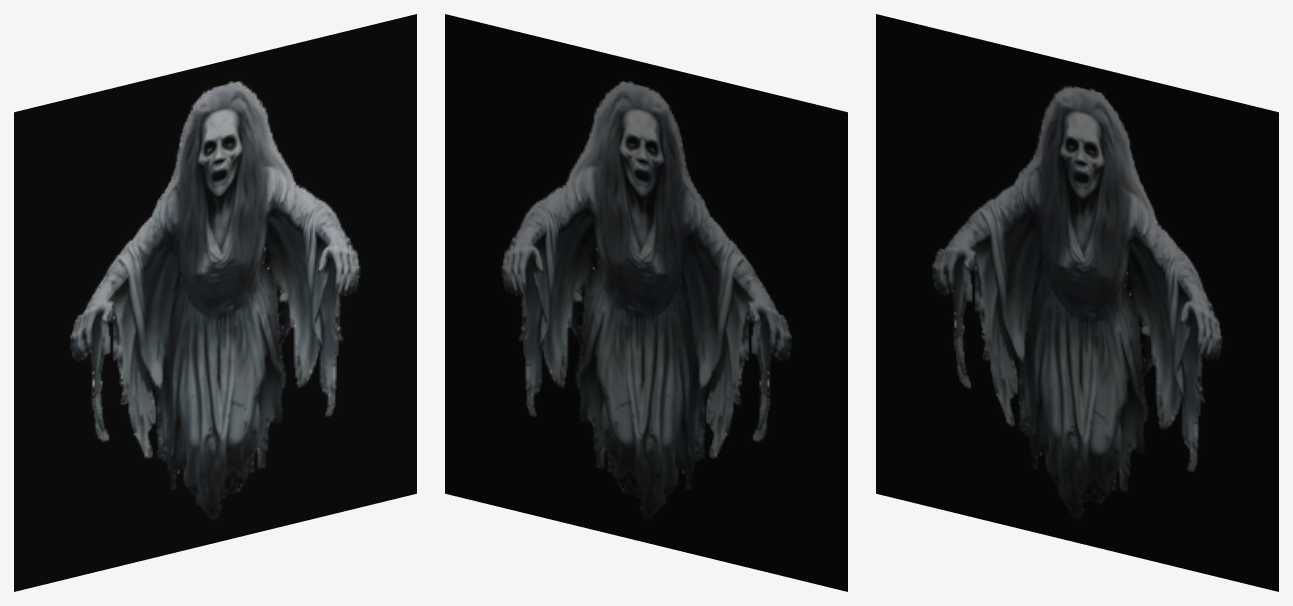
File: fantasma_1_fbx.glb
The picture shows the model from 3 angles, left to right: view 1: azimuth 30°, elevation 25°; view 2: azimuth 150°, elevation 25°; view 3: azimuth 330°, elevation 25°; orthographic projection.
Parts seen in each view (by area): view 1: Plane; view 2: Plane; view 3: Plane.
Part boxes in pixels (x1=…): Plane: x1=14, y1=14, x2=416, y2=591; Plane: x1=445, y1=14, x2=847, y2=591; Plane: x1=876, y1=14, x2=1278, y2=591.
Size of the model in its own units: 1.13 by 1.29 by 5.93e-32.
1 material, 1 textured.
